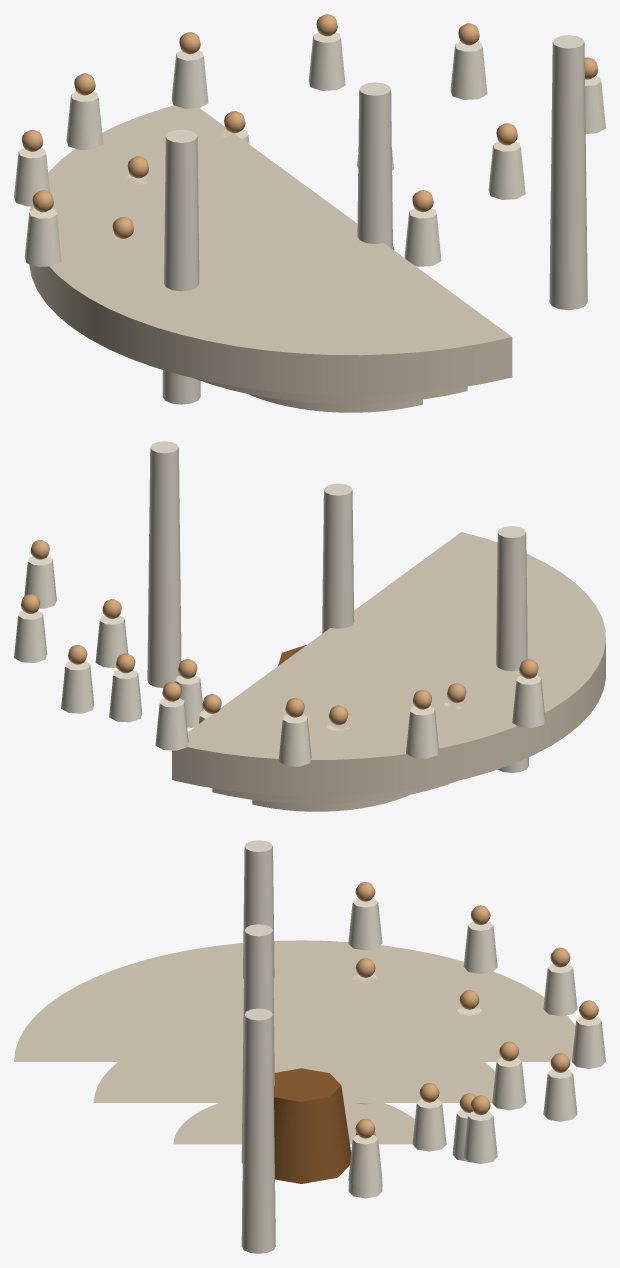
Rendered from senate.glb.
3 views of the same model, one above another, from view 1: azimuth 30°, elevation 25°; view 2: azimuth 150°, elevation 25°; view 3: azimuth 270°, elevation 25° (orthographic). The views are drawn at different scales.
Bounding box in the file's own units: 2.09 × 0.97 × 2.08.
